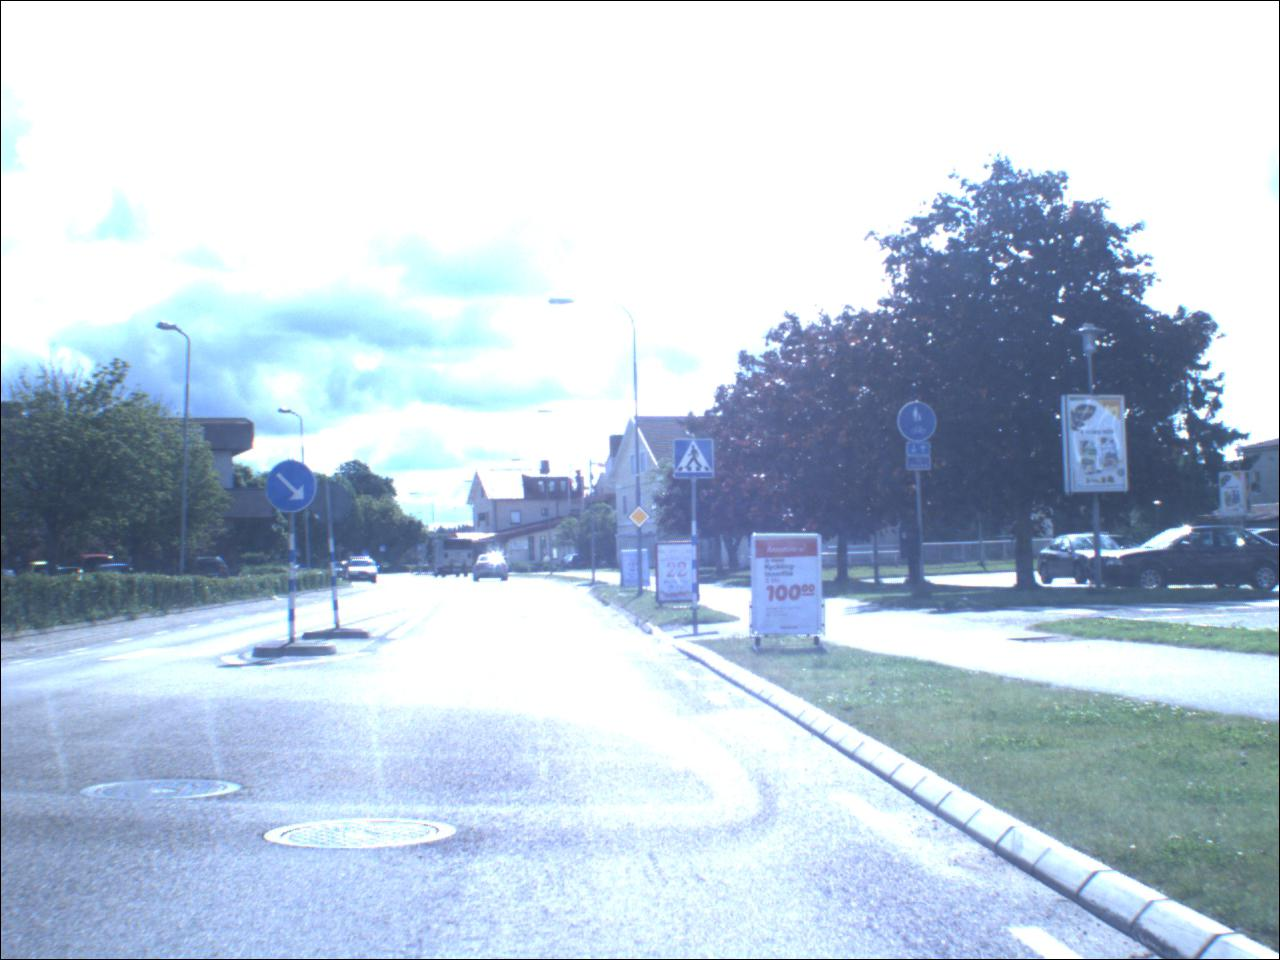PASS_RIGHT_SIDE: (267, 459, 321, 515)
PEDESTRIAN_CROSSING: (676, 440, 718, 480)
PRIORITY_ROAD: (631, 507, 653, 530)
